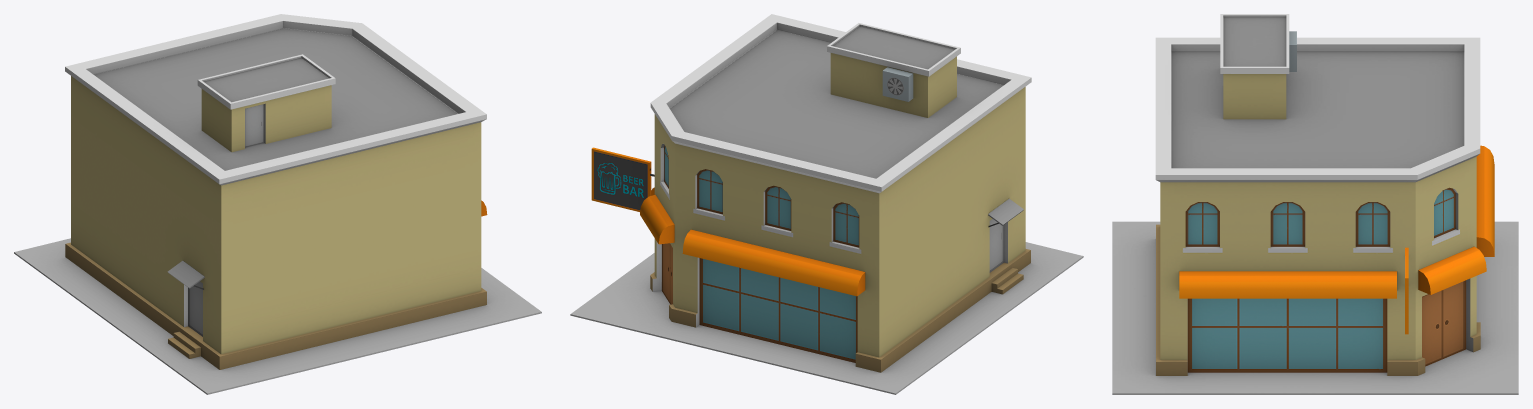
Rendered from HOS0610013.fbx.
3 renders of one model, left to right at view 1: azimuth 30°, elevation 25°; view 2: azimuth 150°, elevation 25°; view 3: azimuth 270°, elevation 25°, orthographic. The views are drawn at different scales.
Visible parts, largest first — view 1: smHOS0610013; view 2: smHOS0610013; view 3: smHOS0610013.
Part boxes in pixels (box(x1,y1,x2,y2)): smHOS0610013: box(14, 14, 541, 394); smHOS0610013: box(570, 14, 1083, 394); smHOS0610013: box(1112, 14, 1518, 394).
Size of what is drawn, in the model's own units: 1372 by 844 by 1257.
Materials: 1 (1 with a texture image).
